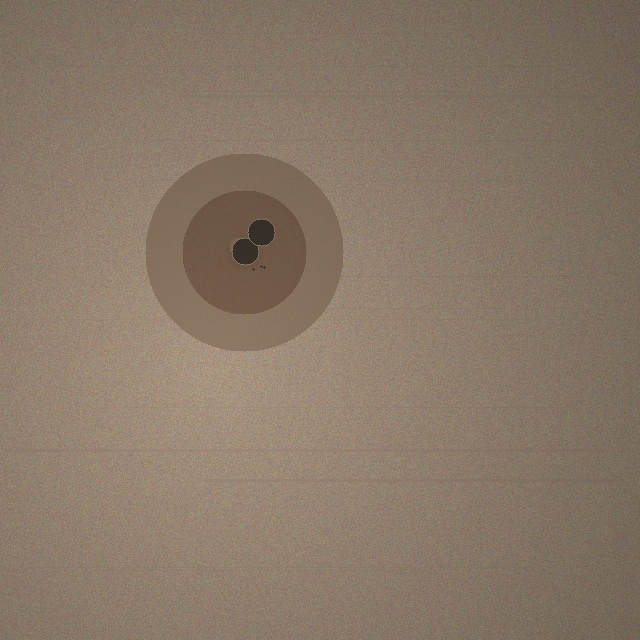shrinkage: (145, 153, 343, 351)
